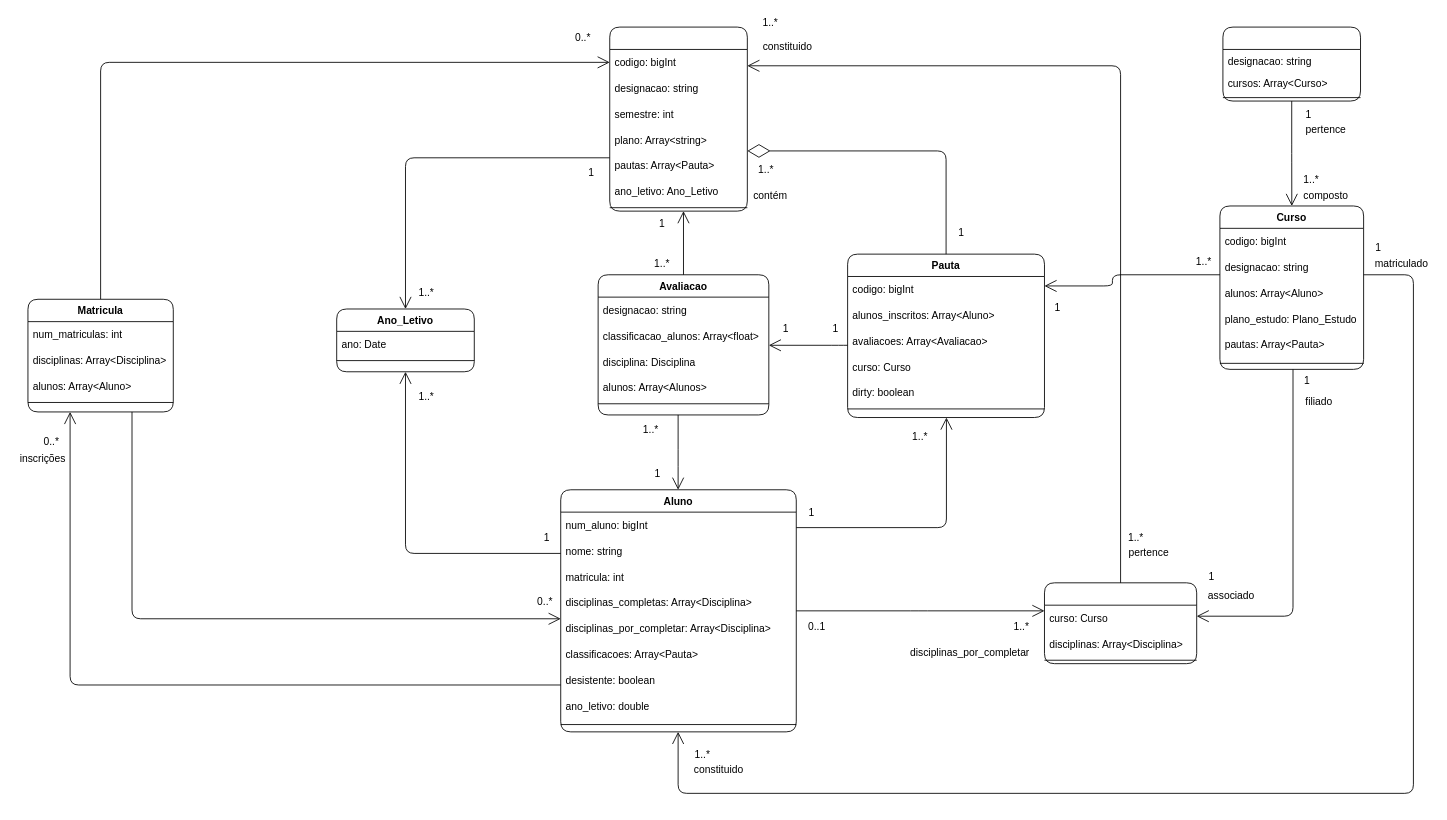
The diagram is 1447 pixels wide and 820 high, and some of its shapes have lost their labels. Here are the shapes that lost their labels. From the top down, the box of each, then its label:
(1222, 26, 1361, 101): Faculdade
(609, 26, 747, 211): Disciplina
(1044, 582, 1197, 664): Plano_Estudo
